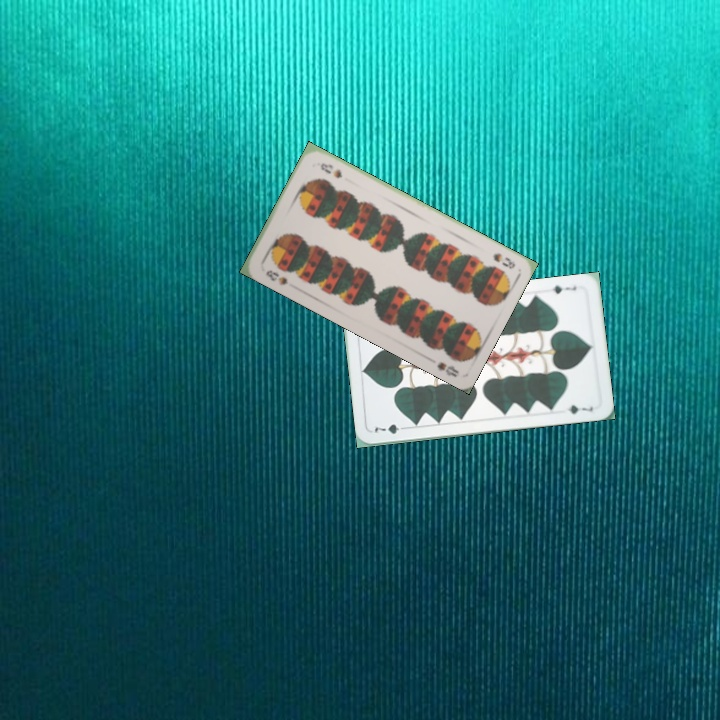G7: (369, 420, 410, 437), (544, 281, 579, 296)
S8: (489, 249, 518, 271), (262, 266, 290, 288)
